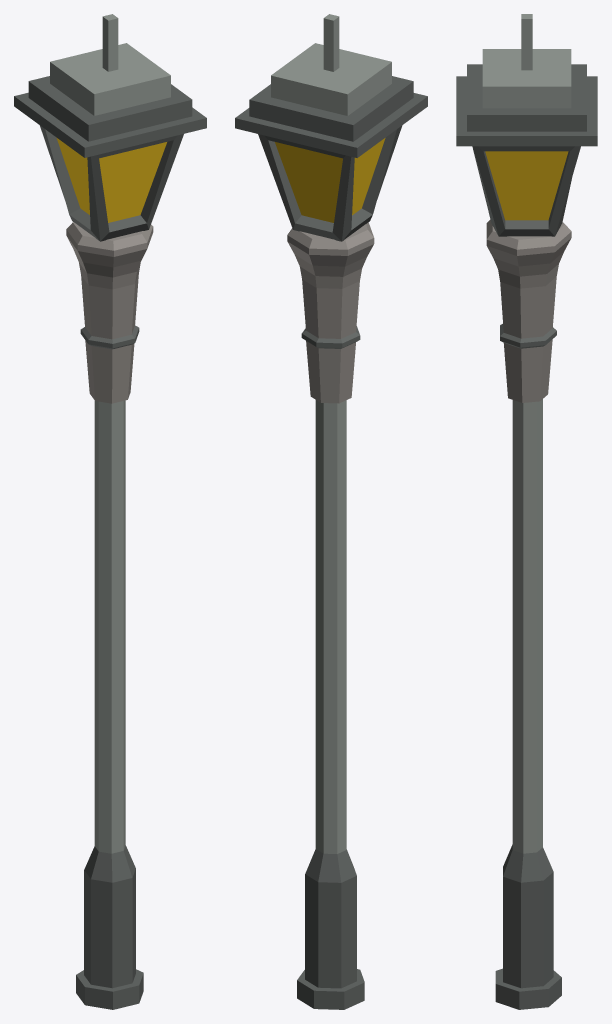
The model's file is LampPost_03.glb.
3 views of the same model, side by side, from view 1: azimuth 30°, elevation 25°; view 2: azimuth 150°, elevation 25°; view 3: azimuth 270°, elevation 25° (orthographic).
Visible parts, largest first — view 1: LampPost_03; view 2: LampPost_03; view 3: LampPost_03.
Boxes of the visible parts, box(x1,y1,x2,y2) form: LampPost_03: box(14, 14, 206, 1009); LampPost_03: box(235, 14, 427, 1009); LampPost_03: box(456, 14, 597, 1009).
Size of what is drawn, in the model's own units: 0.4168 by 3.19 by 0.4168.
Materials: 1 (1 with a texture image).
